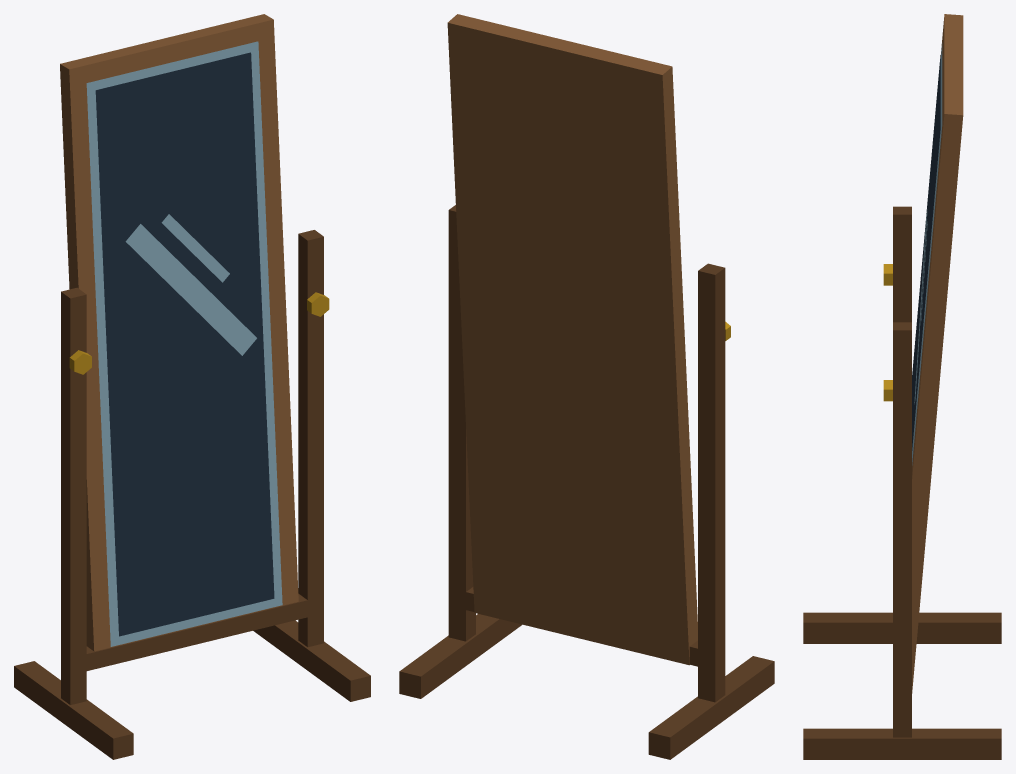
File: prop_mirror.be884518b60c.glb
3 views of the same model, side by side, from view 1: azimuth 30°, elevation 25°; view 2: azimuth 150°, elevation 25°; view 3: azimuth 270°, elevation 25° (orthographic). The views are drawn at different scales.
Visible parts, largest first — view 1: body; view 2: body; view 3: body.
Part boxes in pixels (x1,y1,x2,y2): body: (14, 14, 370, 759); body: (399, 14, 774, 759); body: (803, 14, 1001, 759).
Bounding box in the file's own units: 0.63 × 1.48 × 0.42.
